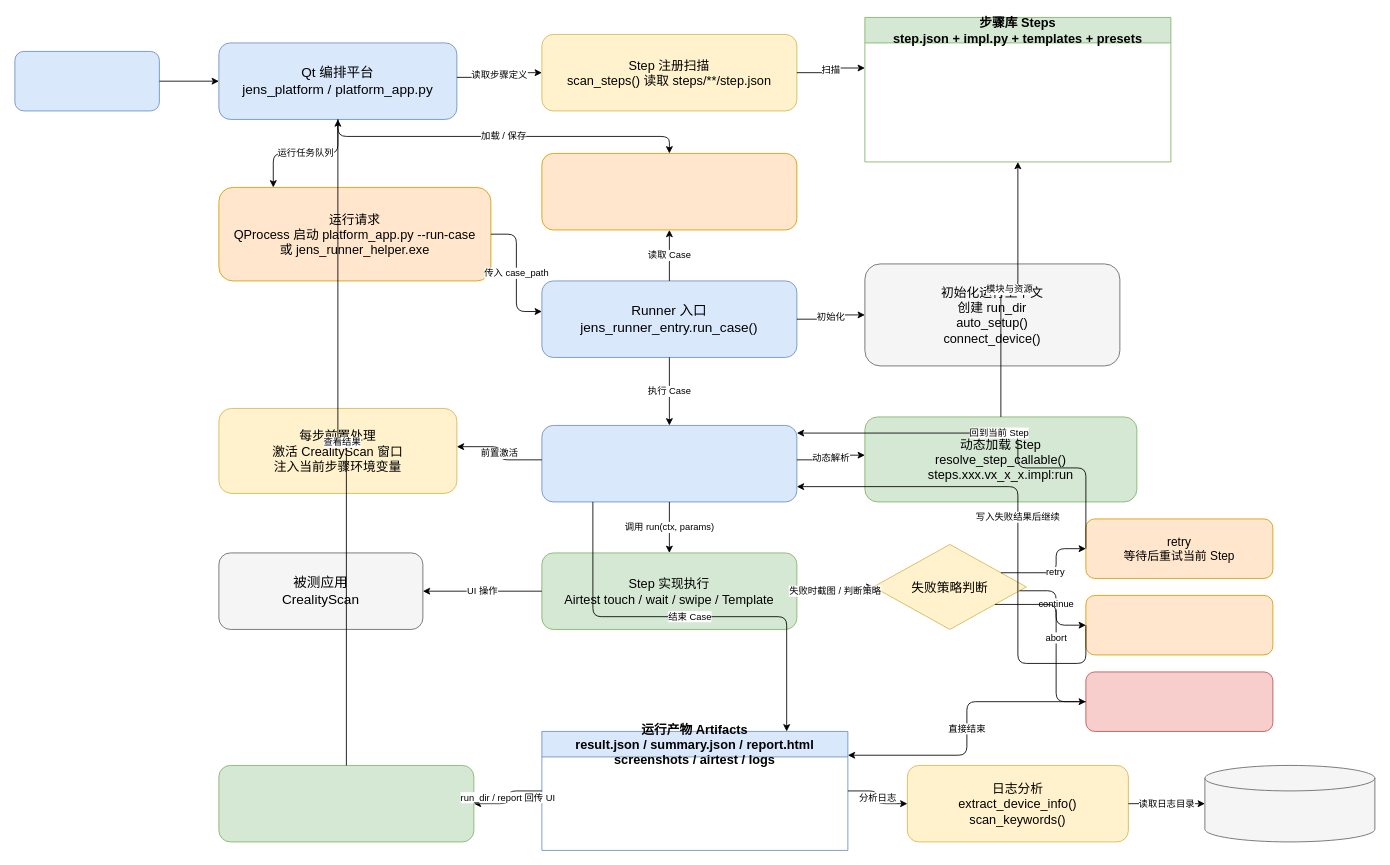
Some shapes in this 1390 by 865 pixel diagram are drawn without their labels. The shapes that lost their labels are listed below. From the top down, each one's box as (x1, y1, x2, y2) in pixels, then its label:
(14, 51, 159, 111): 用户 / 测试工程师
(541, 153, 797, 230): 用例 / 任务存储 cases/*.json / tasks/*.json
(541, 425, 797, 502): 执行引擎 engine.executor.execute_case()
(1085, 595, 1273, 655): continue 记录失败并继续后续 Step
(1085, 671, 1273, 731): abort 终止当前 Case
(218, 765, 474, 842): HTML 报告与结果回显 UI 读取 run_dir / report 路径
(1204, 765, 1375, 842): CrealityScan Logs
